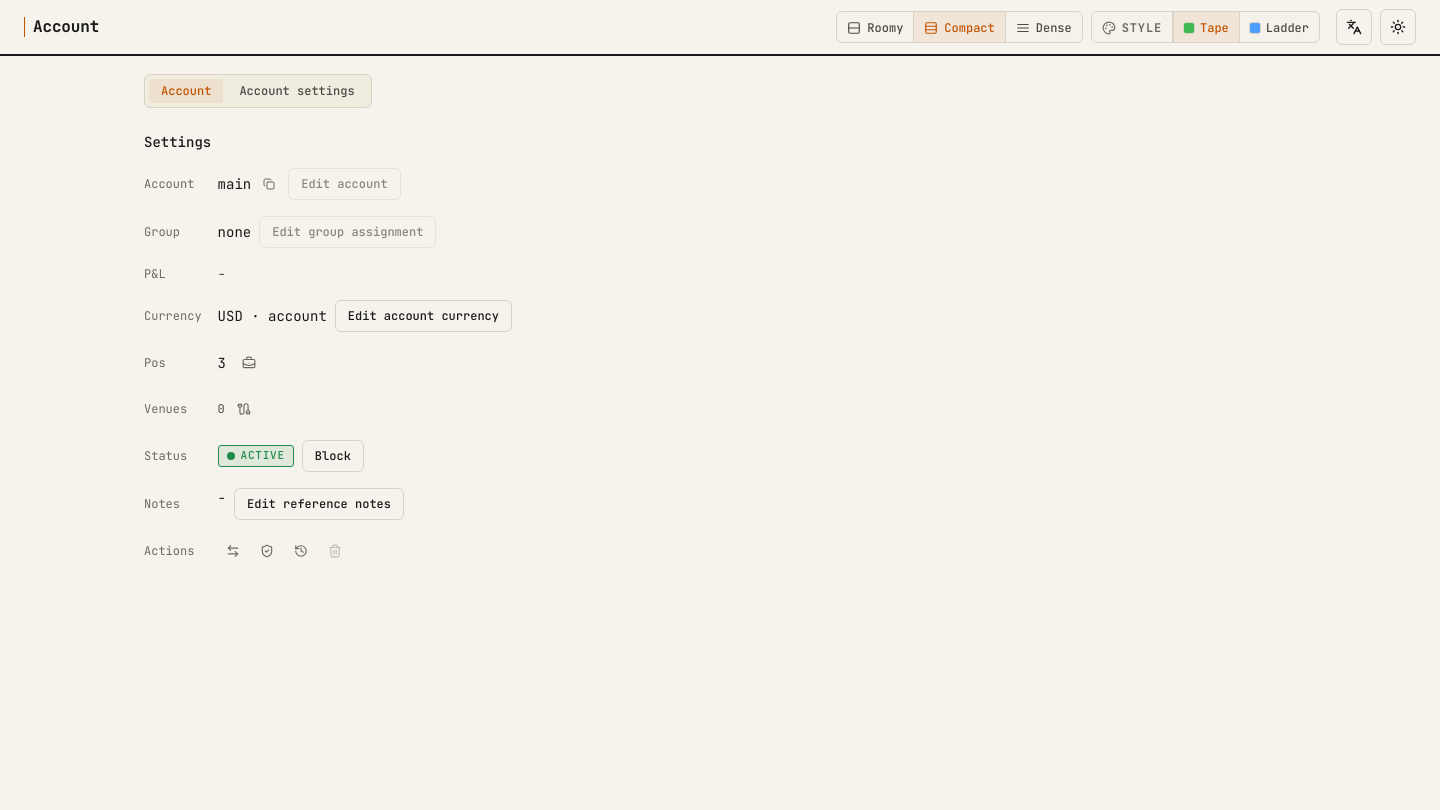
Test: Account page › warns in the currency dialog that the account holds positions
What coordinates should you click on to do the following:
click the button "Edit account currency"
I would click on:
 (423, 316)
Its box is [335,300,512,332].
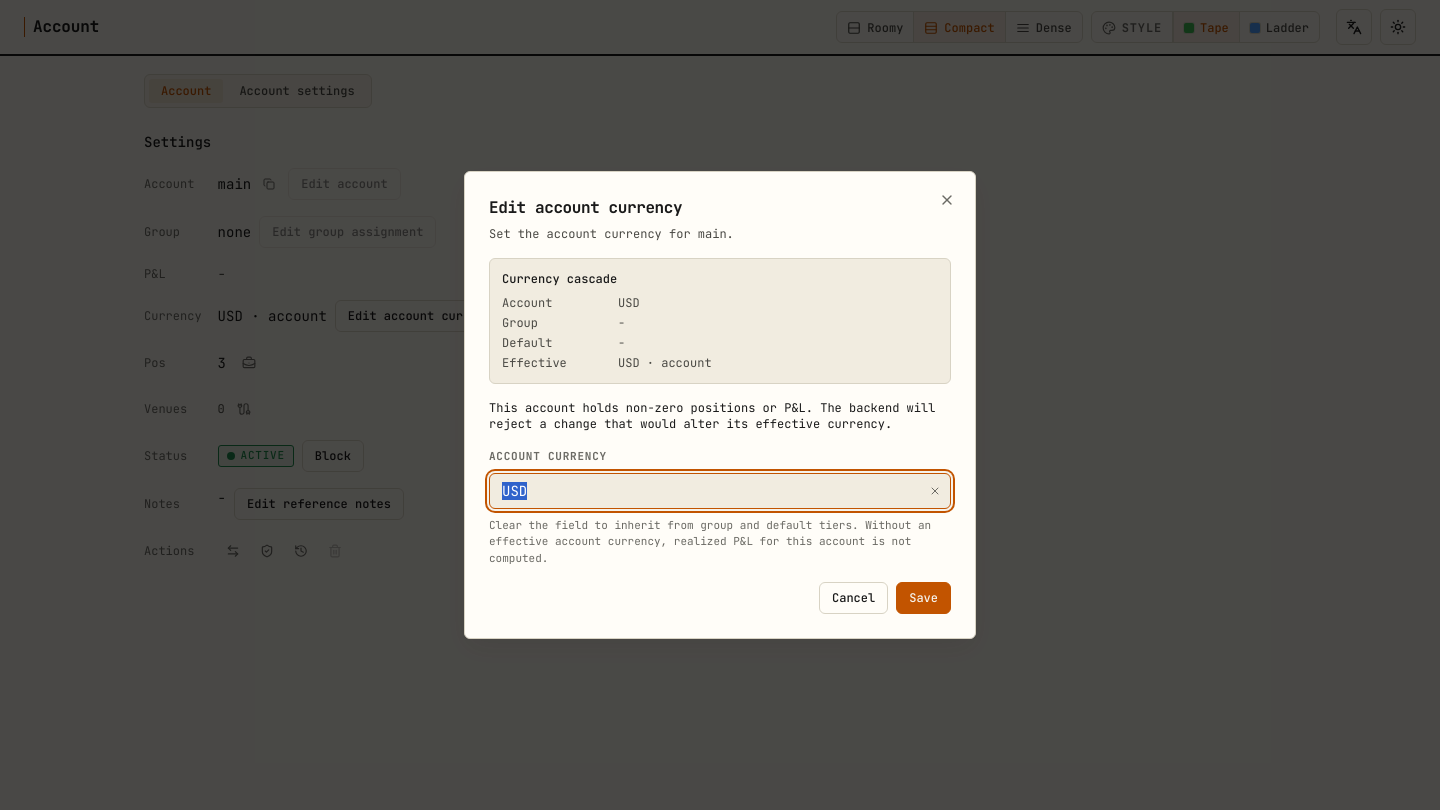
Expected: the text "This account holds non-zero positions or P&L. The backend will reject a change that would alter its effective currency." is shown, [489,400,935,432]
